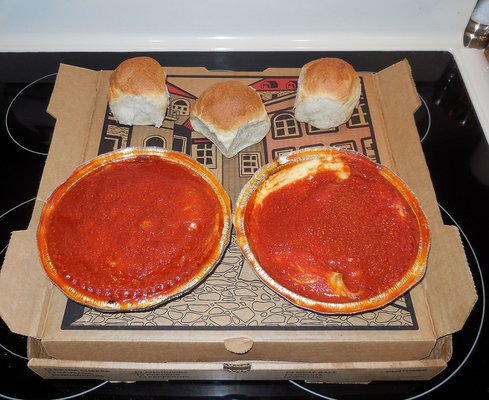taco: (234, 145, 431, 315)
